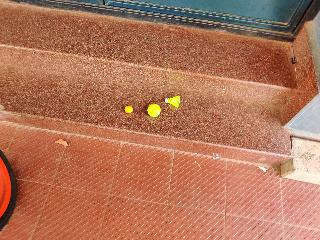shuttlecock: (164, 95, 180, 107)
